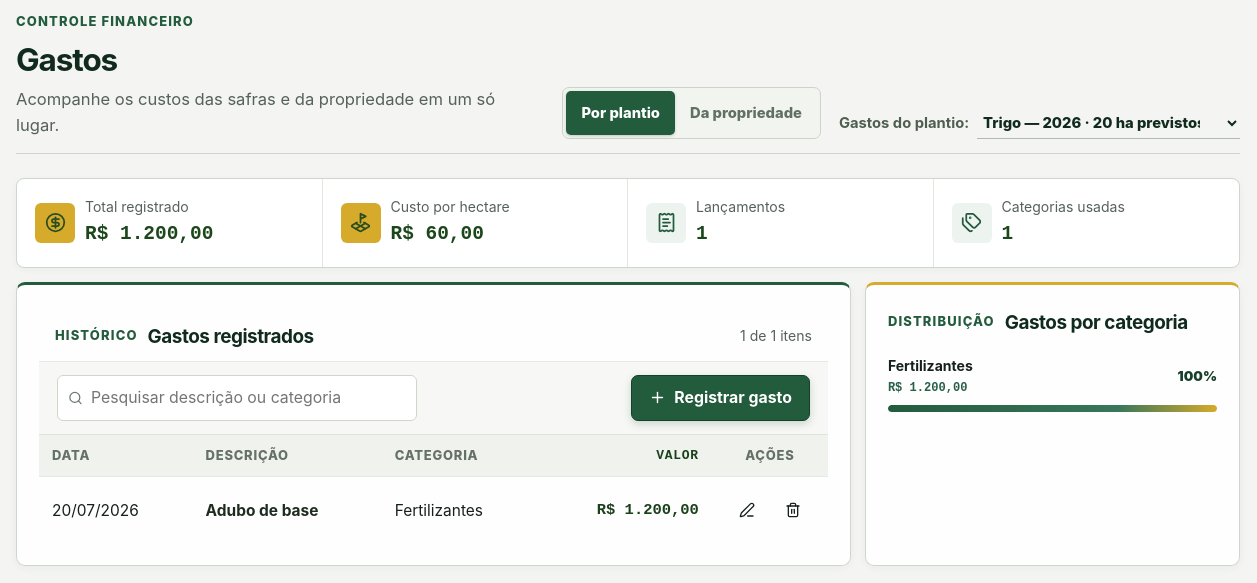
Test: ExpensesPage › separa os gastos gerais da propriedade dos custos do plantio
Expected: the text "Adubo de base" is shown, [206, 501, 318, 520]
Click the tab "Da propriedade" at (746, 113), box [675, 91, 817, 135]
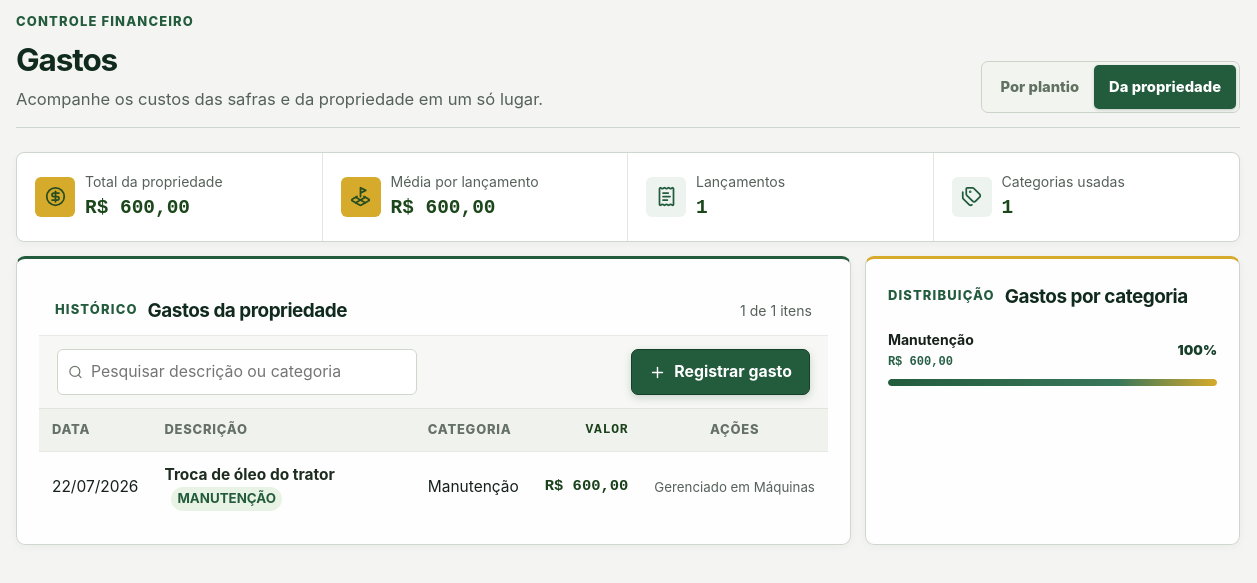
Expected: the text "Troca de óleo do trator" is shown, [164, 465, 335, 484]
Expected: the text "Total da propriedade" is shown, [85, 171, 223, 192]
Expected: the text "Média por lançamento" is shown, [390, 171, 539, 192]
